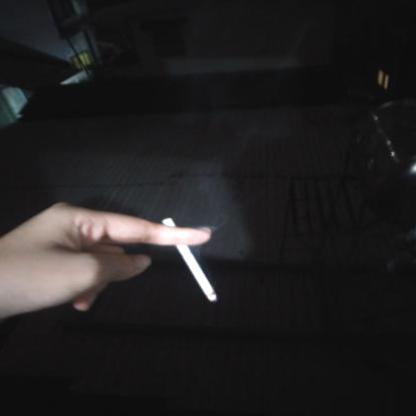cigarette: (165, 214, 219, 304)
